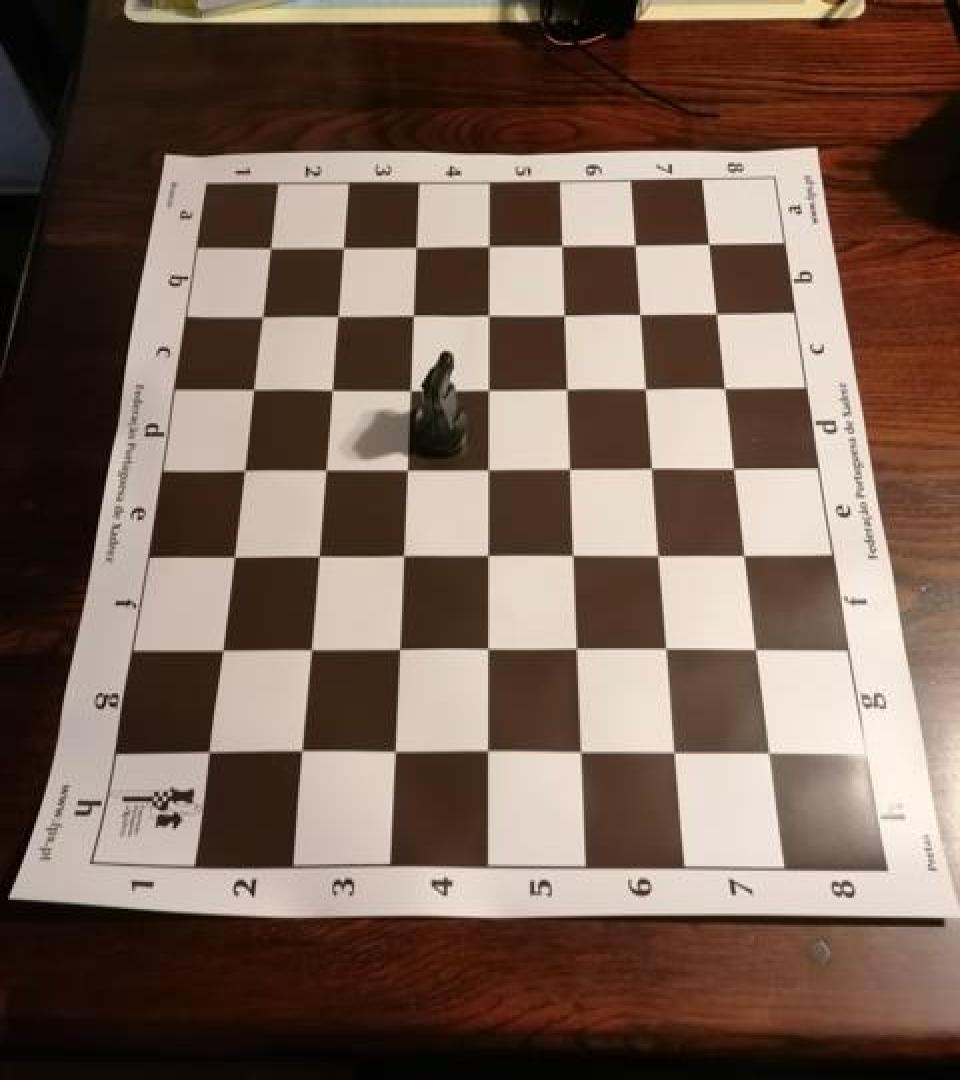xcorner: (564, 734, 596, 771), (470, 734, 502, 771), (376, 734, 408, 771), (282, 734, 314, 771), (188, 734, 220, 771), (696, 227, 728, 263), (622, 227, 654, 263), (548, 227, 580, 263), (474, 227, 506, 263), (400, 227, 432, 263), (326, 227, 358, 263), (252, 227, 284, 263), (703, 296, 735, 332), (627, 296, 659, 332), (550, 296, 582, 332), (473, 296, 505, 332), (397, 296, 429, 332), (320, 296, 352, 332), (243, 296, 275, 332), (712, 371, 744, 407), (632, 371, 664, 407), (552, 370, 584, 406), (473, 370, 505, 406), (393, 370, 425, 406), (314, 370, 346, 406), (234, 370, 266, 406), (721, 451, 753, 487), (638, 451, 670, 487), (555, 451, 587, 487), (472, 451, 504, 487), (389, 451, 421, 487), (307, 450, 339, 486), (224, 450, 256, 486), (730, 538, 762, 574), (644, 538, 676, 574), (558, 538, 590, 574), (471, 538, 503, 574), (385, 538, 417, 574), (299, 538, 331, 574), (213, 538, 245, 574), (741, 632, 773, 668), (651, 632, 683, 668), (561, 632, 593, 668), (471, 632, 503, 668), (381, 632, 413, 668), (291, 631, 323, 667), (201, 631, 233, 667), (752, 736, 784, 772), (658, 736, 690, 772)
